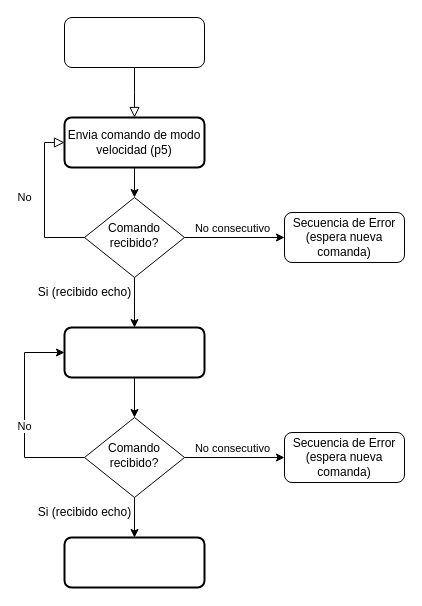
The diagram is 422 pixels wide and 606 high, and some of its shapes have lost their labels. The shapes that lost their labels are listed below. From the top down, each one's box as (x1, y1, x2, y2) in pixels, then its label:
(64, 16, 204, 68): Creación del objeto (MotorDriver myMotors)
(63, 326, 205, 378): Envia comando de inicio de motor (A)
(63, 536, 205, 588): Espera nueva comanda
